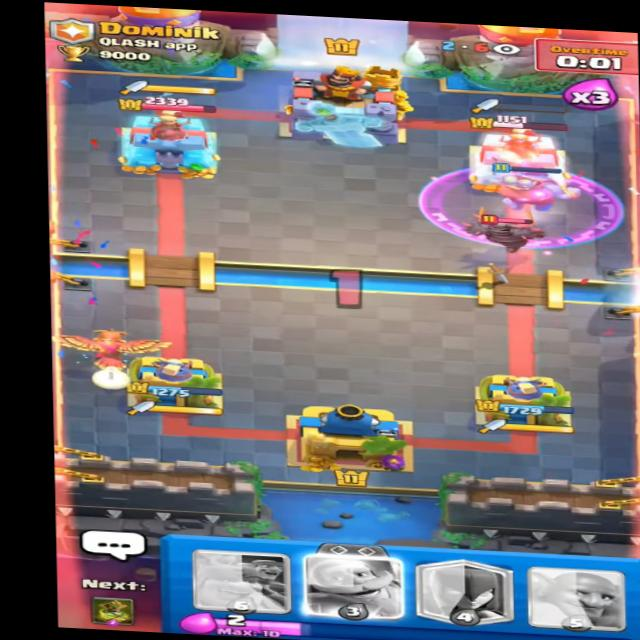Pekka: (466, 209, 552, 255)
